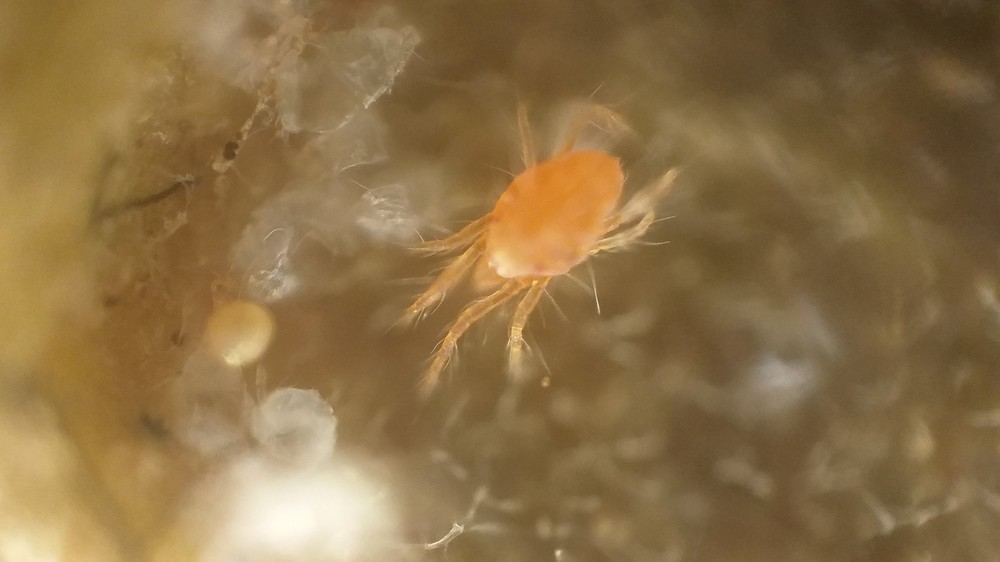Aracnido Rojo: (356, 63, 703, 420)
